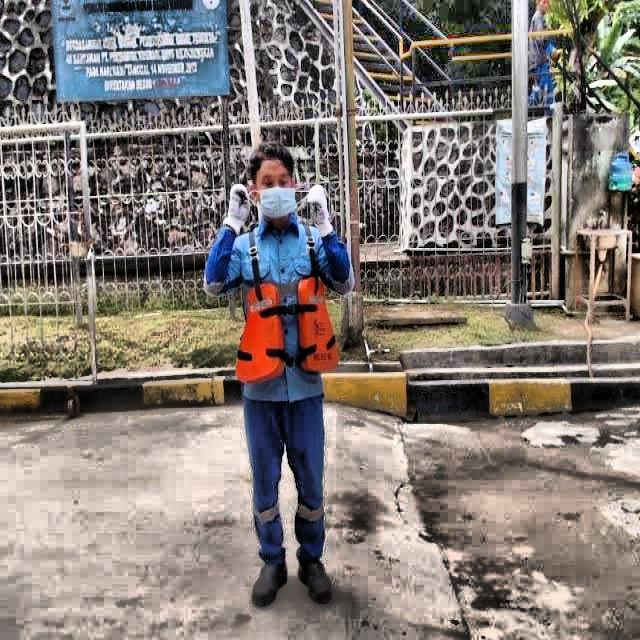safety_jacket: (236, 231, 337, 394)
